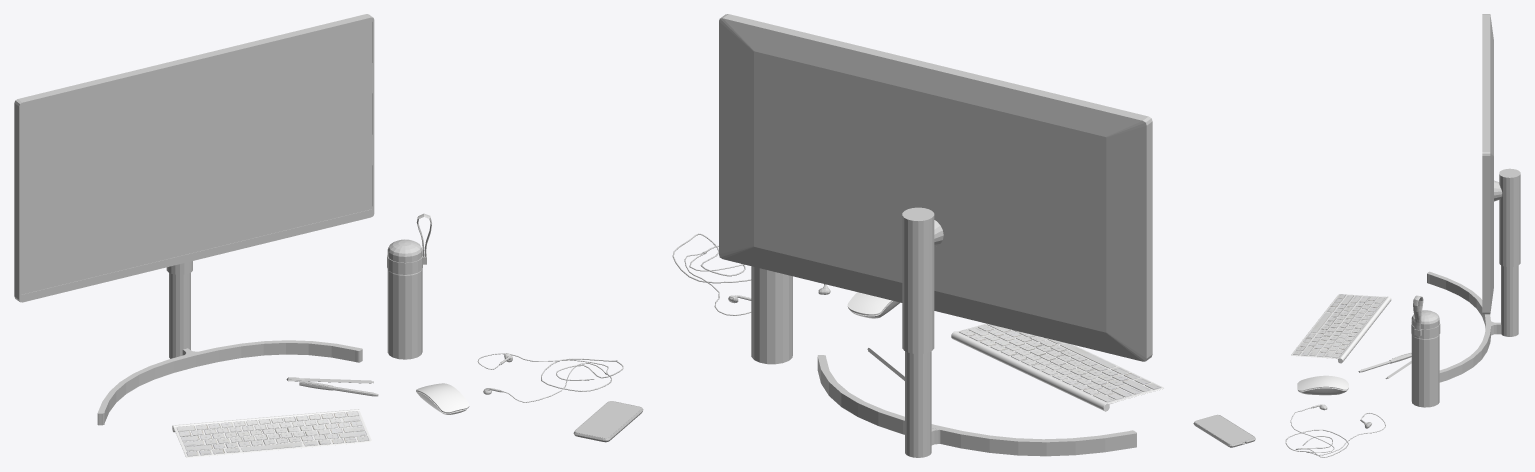
File: workspace.glb
3 views of the same model, side by side, from view 1: azimuth 30°, elevation 25°; view 2: azimuth 150°, elevation 25°; view 3: azimuth 270°, elevation 25° (orthographic). The views are drawn at different scales.
Bounding box in the file's own units: 342 × 204 × 241.
Materials: 5 (1 with a texture image).
